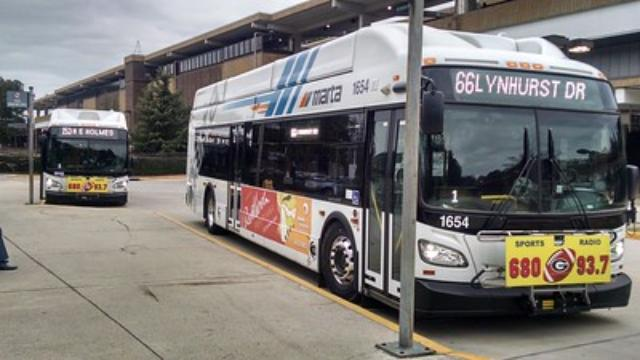bus: (182, 19, 632, 317), (42, 107, 130, 208)
